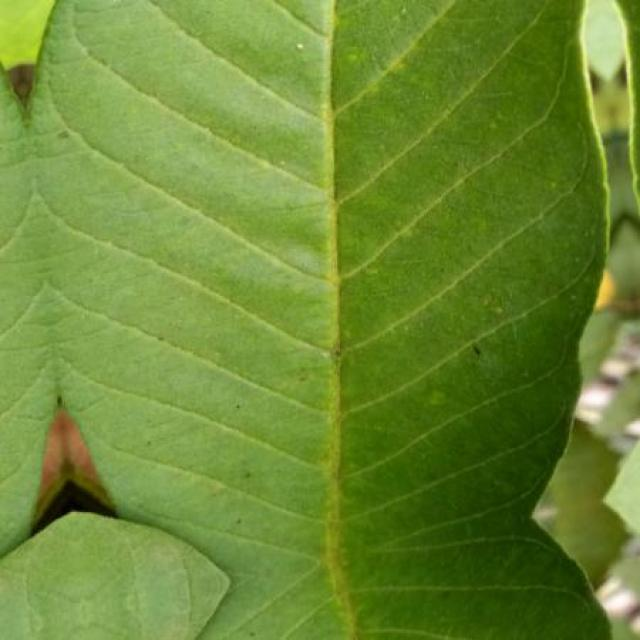Disease Free: (0, 0, 608, 639)
